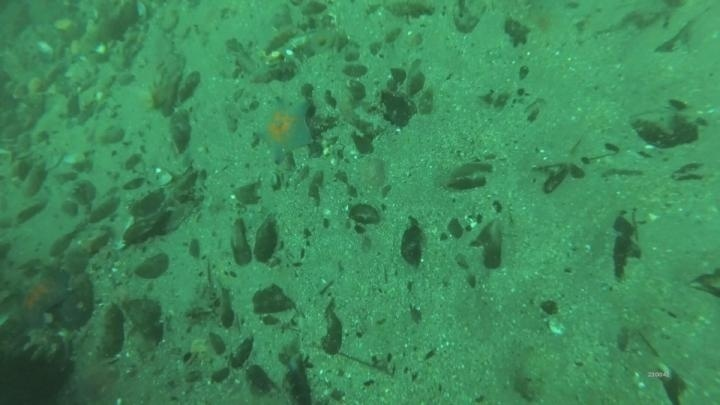echinus: (0, 341, 75, 404)
starfish: (252, 97, 317, 163), (10, 265, 74, 329)
